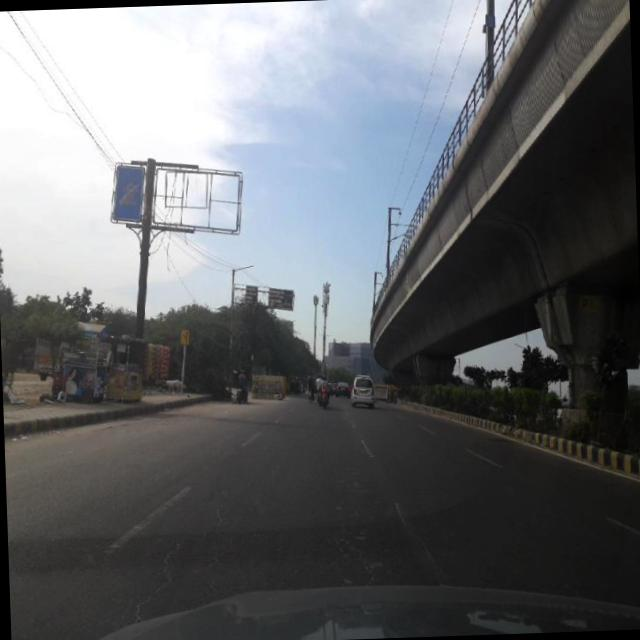crack: (122, 449, 270, 615), (324, 446, 394, 584)
pothole: (408, 511, 452, 582)
